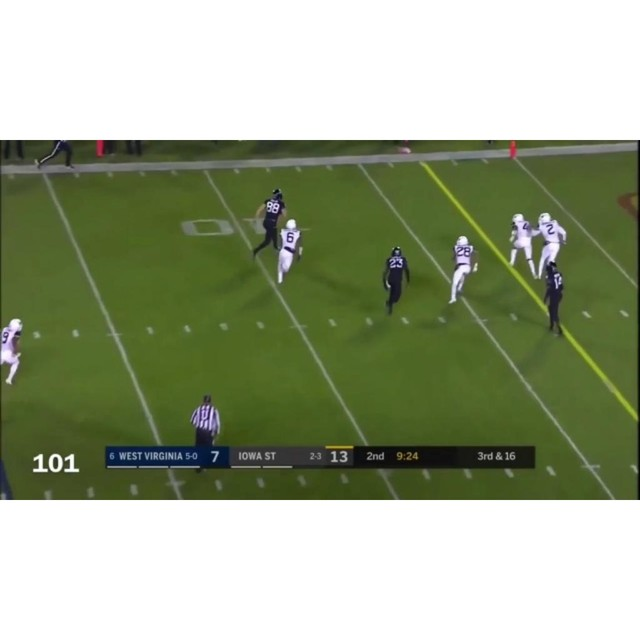american-football-player: (251, 190, 286, 260), (533, 213, 567, 281), (448, 236, 478, 305), (508, 212, 538, 278), (383, 247, 410, 314), (276, 219, 303, 285), (0, 319, 22, 386)
referee: (189, 393, 222, 448), (542, 261, 565, 335), (36, 140, 75, 171)
